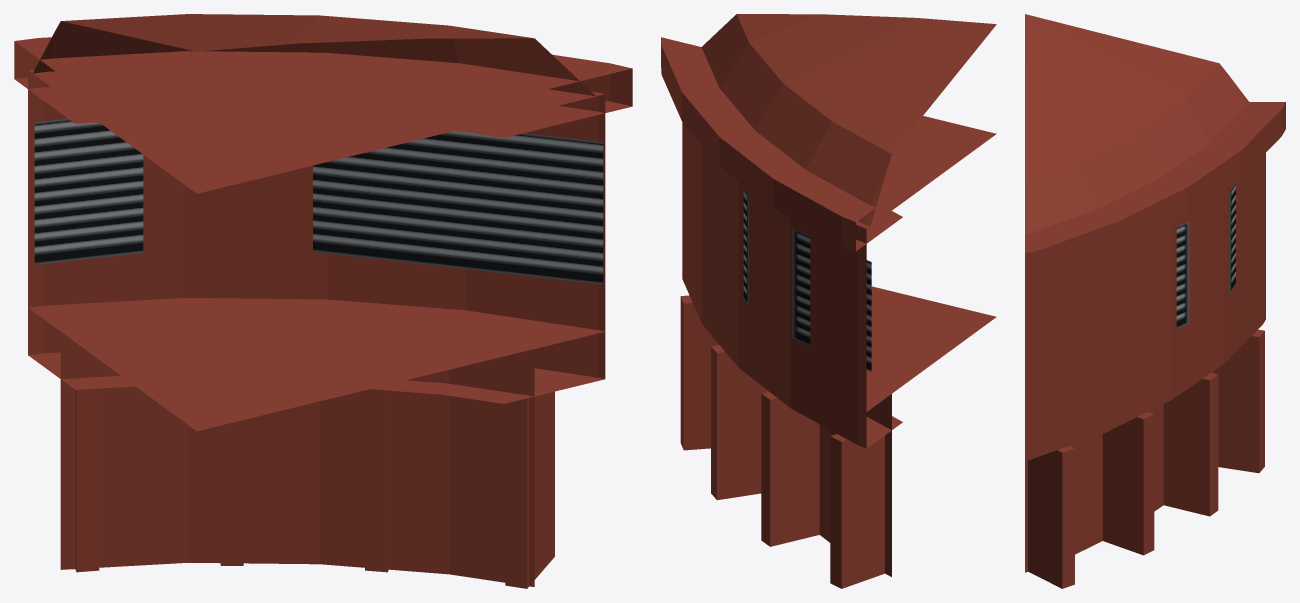
The model's file is cell_87.obj.
3 renders of one model, left to right at view 1: azimuth 30°, elevation 25°; view 2: azimuth 150°, elevation 25°; view 3: azimuth 270°, elevation 25°, orthographic. The views are drawn at different scales.
Bounding box in the file's own units: 0.4793 × 0.6493 × 0.3481.
